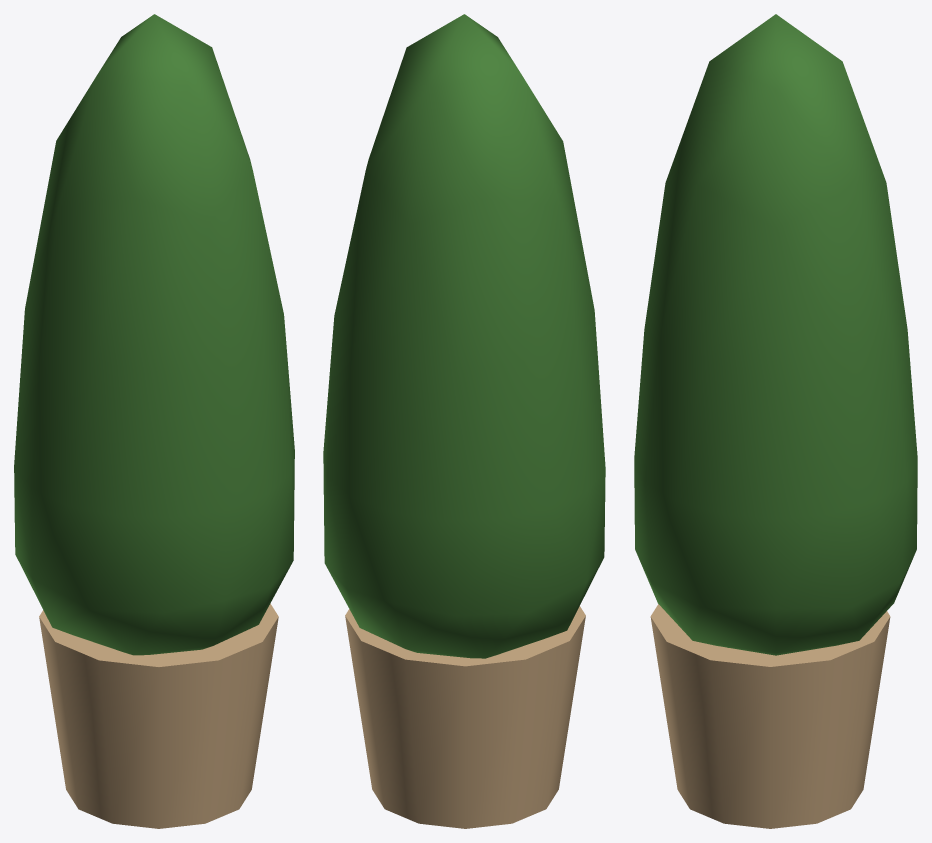
File: SM_pot_plant_01.fbx
3 views of the same model, side by side, from view 1: azimuth 30°, elevation 25°; view 2: azimuth 150°, elevation 25°; view 3: azimuth 270°, elevation 25° (orthographic).
Parts seen in each view (by area): view 1: Cylinder51229; view 2: Cylinder51229; view 3: Cylinder51229.
Part boxes in pixels (box(x1,y1,x2,y2)): Cylinder51229: box(14, 14, 294, 828); Cylinder51229: box(323, 14, 605, 828); Cylinder51229: box(634, 14, 917, 828).
Bounding box in the file's own units: 24.63 × 74.28 × 24.63.
